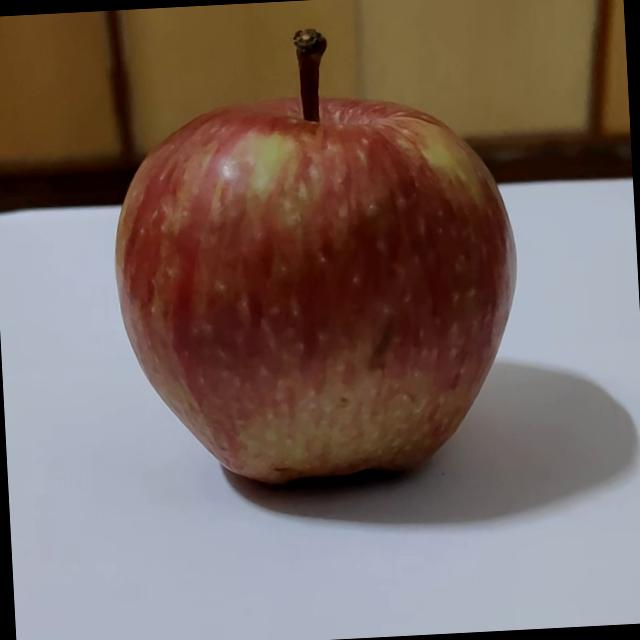apple: (103, 20, 525, 500)
